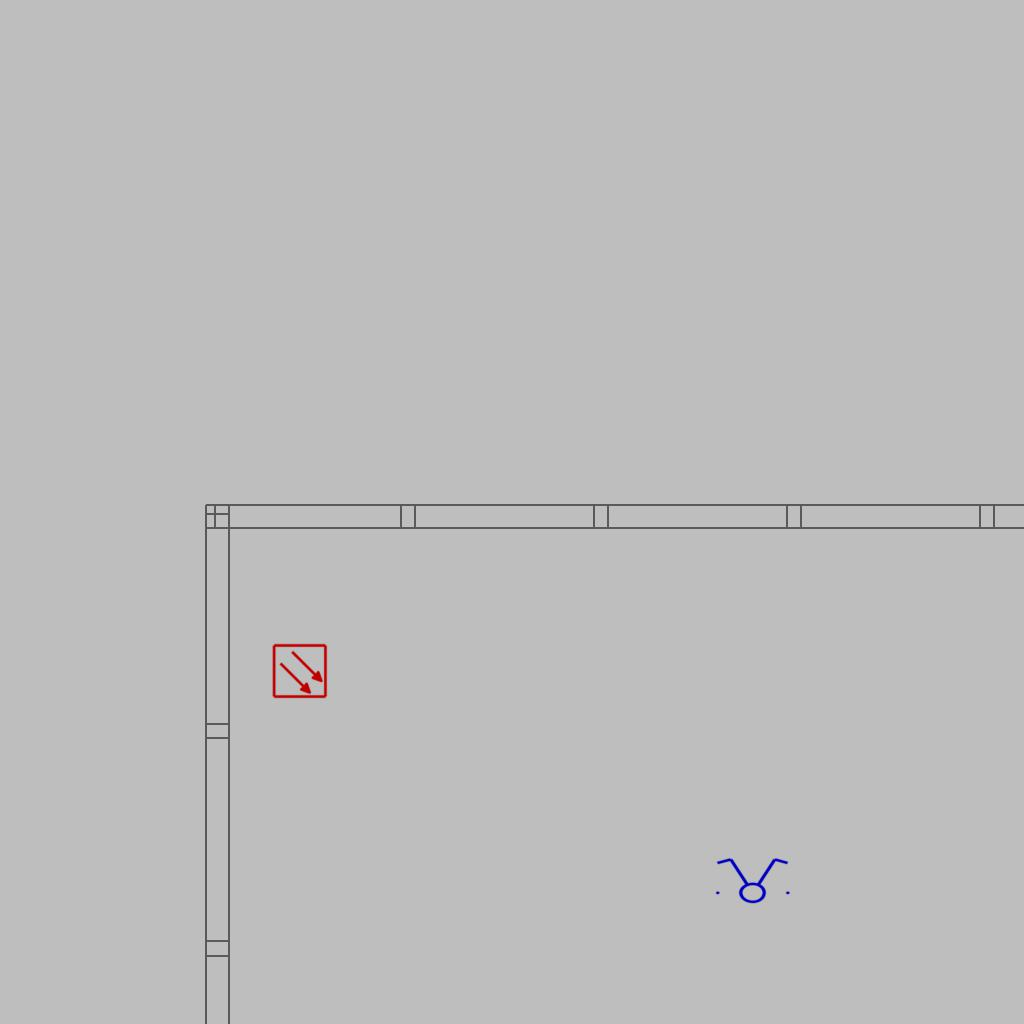RMO_Rauchmelder_optischer: (272, 643, 328, 699)
Serienschalter: (710, 856, 794, 904)
